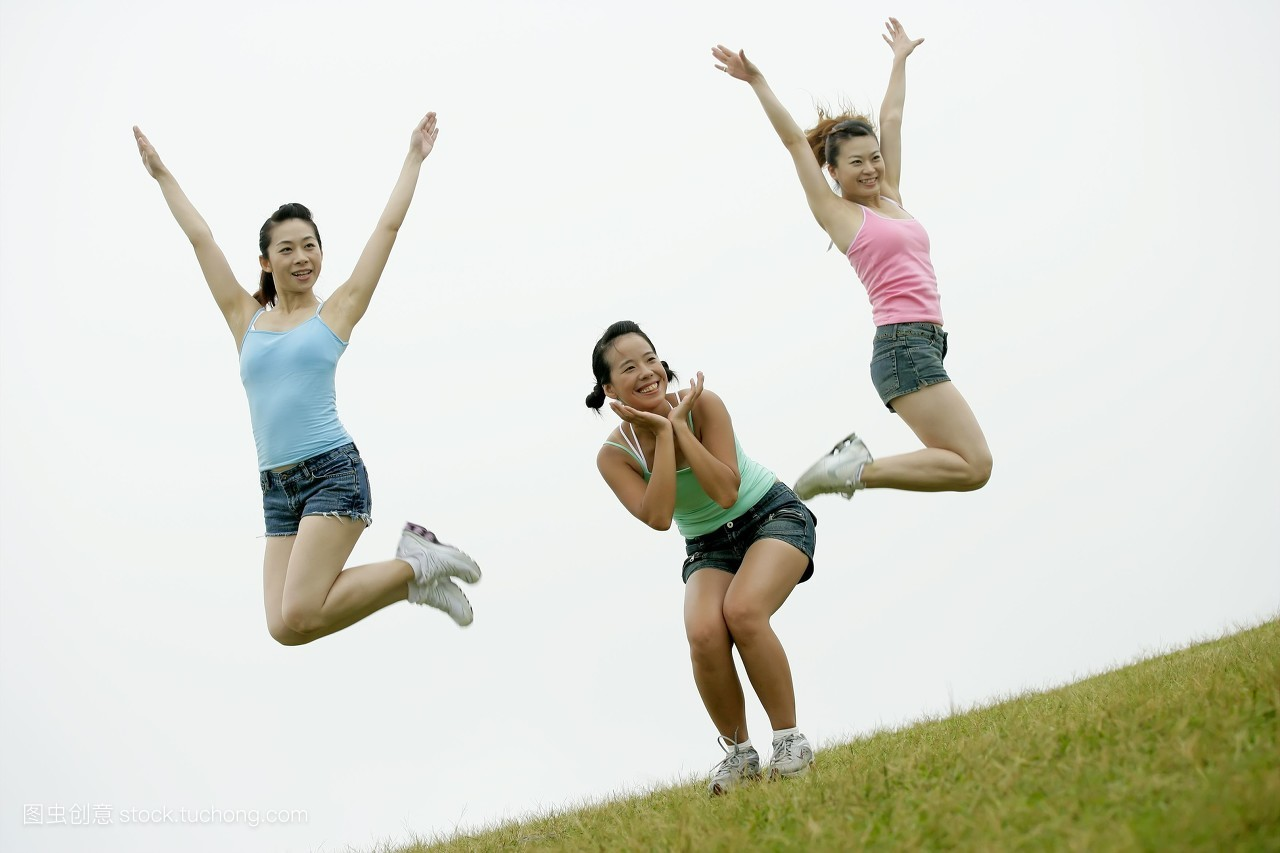handsup: (119, 108, 522, 646), (705, 14, 1061, 502), (581, 315, 841, 807)
